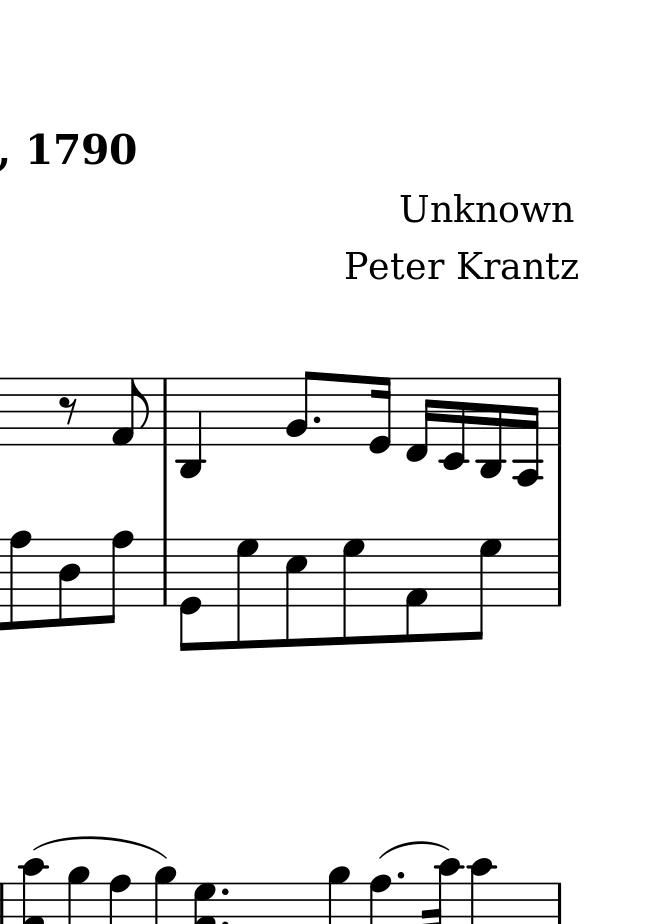16_-1: (405, 377, 435, 465)
16_-2: (442, 377, 467, 472)
16_-3: (478, 376, 505, 480)
16_-4: (513, 377, 541, 487)
16_0: (367, 375, 394, 456)
4_-3: (176, 375, 204, 480)
8_0: (178, 536, 202, 653)
8_1: (109, 376, 149, 447), (402, 537, 428, 644)
8_2: (284, 370, 316, 447)
8_4: (57, 537, 81, 628)
8_5: (283, 536, 307, 649)
8_7: (340, 537, 366, 648), (234, 537, 259, 650)
8_8: (466, 536, 502, 643), (98, 529, 133, 626)
8_9: (7, 529, 31, 632)
Rests8: (57, 395, 80, 427)
Single_barline: (158, 377, 175, 446), (157, 539, 173, 606), (553, 378, 567, 449), (552, 541, 566, 607)
Slur: (29, 836, 166, 859), (370, 840, 450, 861)
dot: (395, 869, 406, 883), (311, 413, 322, 425), (219, 885, 230, 897)
